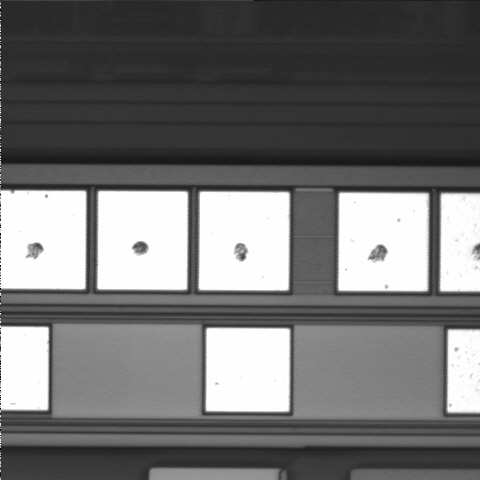pad: (98, 191, 188, 290), (199, 192, 289, 290), (338, 193, 428, 291), (206, 328, 290, 412)
